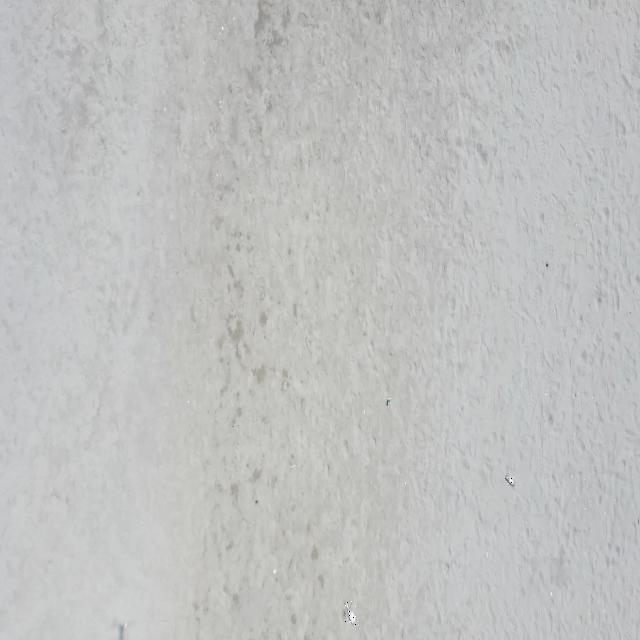glass: (345, 600, 356, 625), (505, 473, 516, 487), (387, 398, 391, 404)
